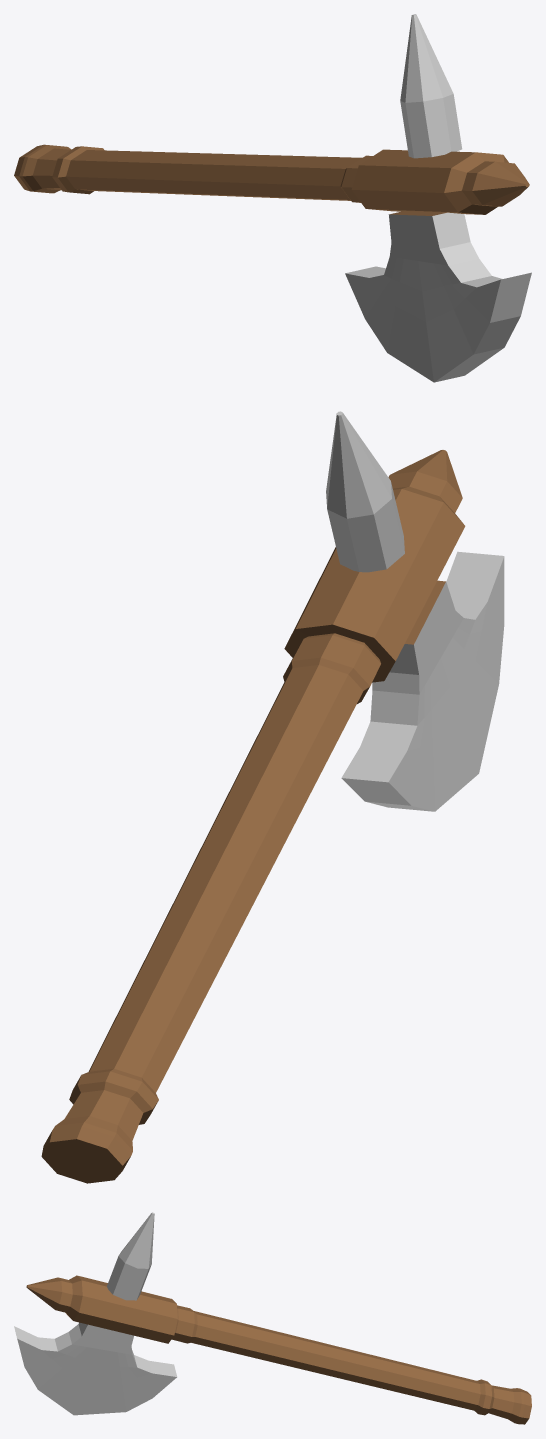
Rendered from ØKSE.fbx.
3 views of the same model, one above another, from view 1: azimuth 30°, elevation 25°; view 2: azimuth 150°, elevation 25°; view 3: azimuth 270°, elevation 25° (orthographic). The views are drawn at different scales.
Parts seen in each view (by area): view 1: NPC.005; view 2: NPC.005; view 3: NPC.005.
Boxes of the visible parts, left/top/right/bottom form: NPC.005: left=14, top=14, right=531, bottom=382; NPC.005: left=41, top=411, right=504, bottom=1183; NPC.005: left=14, top=1212, right=531, bottom=1424.
Bounding box in the file's own units: 54.63 × 115 × 228.
